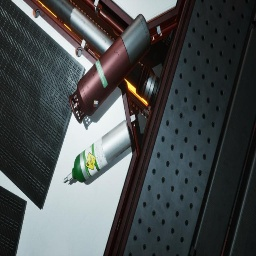0: (63, 120, 132, 183)
NitrogenTank ,: (69, 14, 151, 124)
